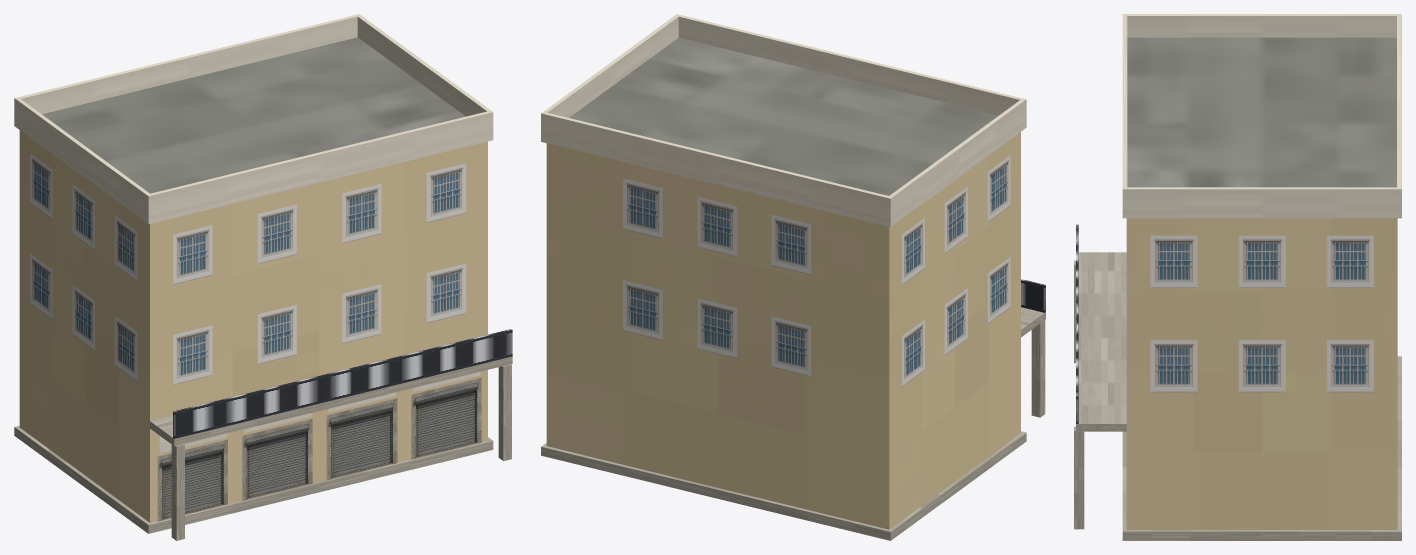
The model's file is shops-cream-far.glb.
The picture shows the model from 3 angles, left to right: view 1: azimuth 30°, elevation 25°; view 2: azimuth 150°, elevation 25°; view 3: azimuth 270°, elevation 25°; orthographic projection. The views are drawn at different scales.
Parts seen in each view (by area): view 1: shops-cream-far; view 2: shops-cream-far; view 3: shops-cream-far.
Part boxes in pixels (x1=…): shops-cream-far: x1=14, y1=14, x2=512, y2=540; shops-cream-far: x1=541, y1=14, x2=1045, y2=540; shops-cream-far: x1=1074, y1=14, x2=1401, y2=540.
Size of the model in its own units: 12.24 by 11.45 by 9.67.
Materials: 1 (1 with a texture image).
